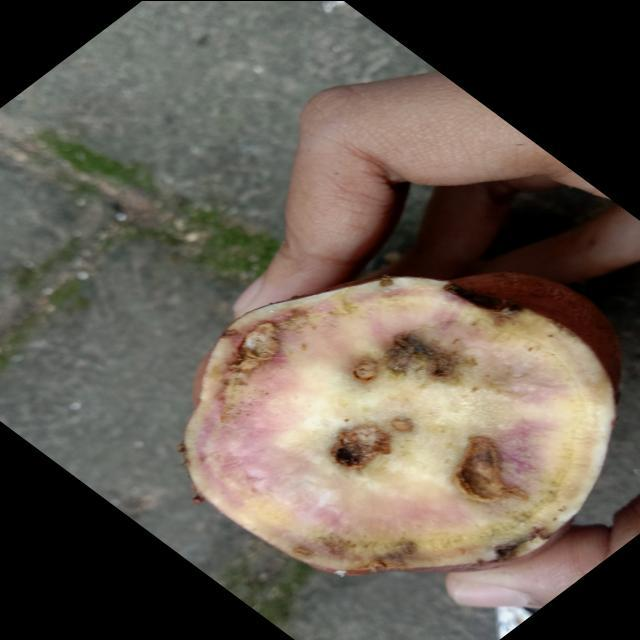Sick Sweet Potato_Tuber Rot: (182, 271, 620, 574)
